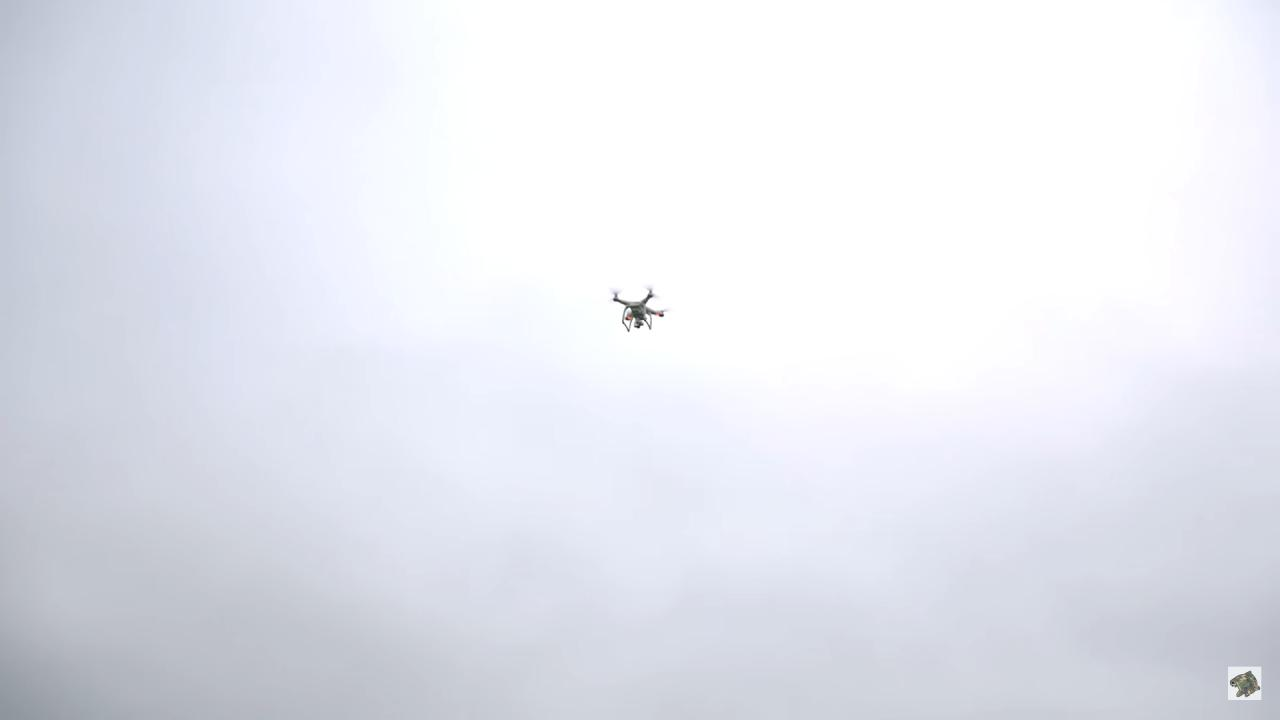Drone: (599, 276, 679, 338)
